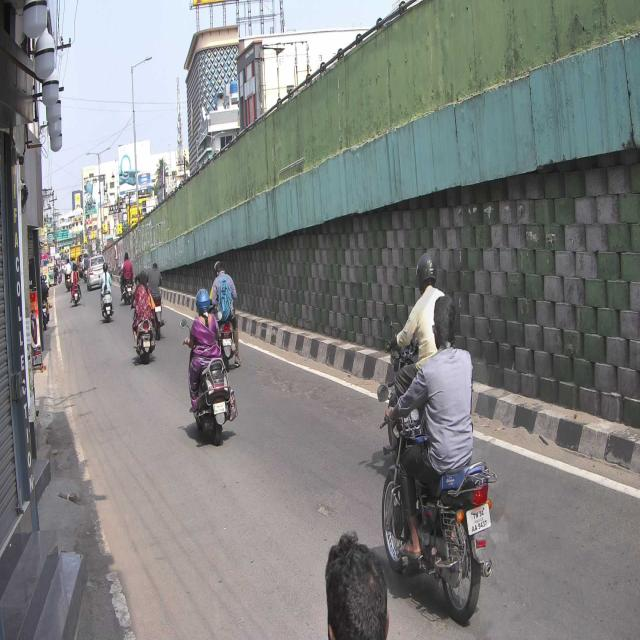single_rider: (380, 296, 492, 624)
